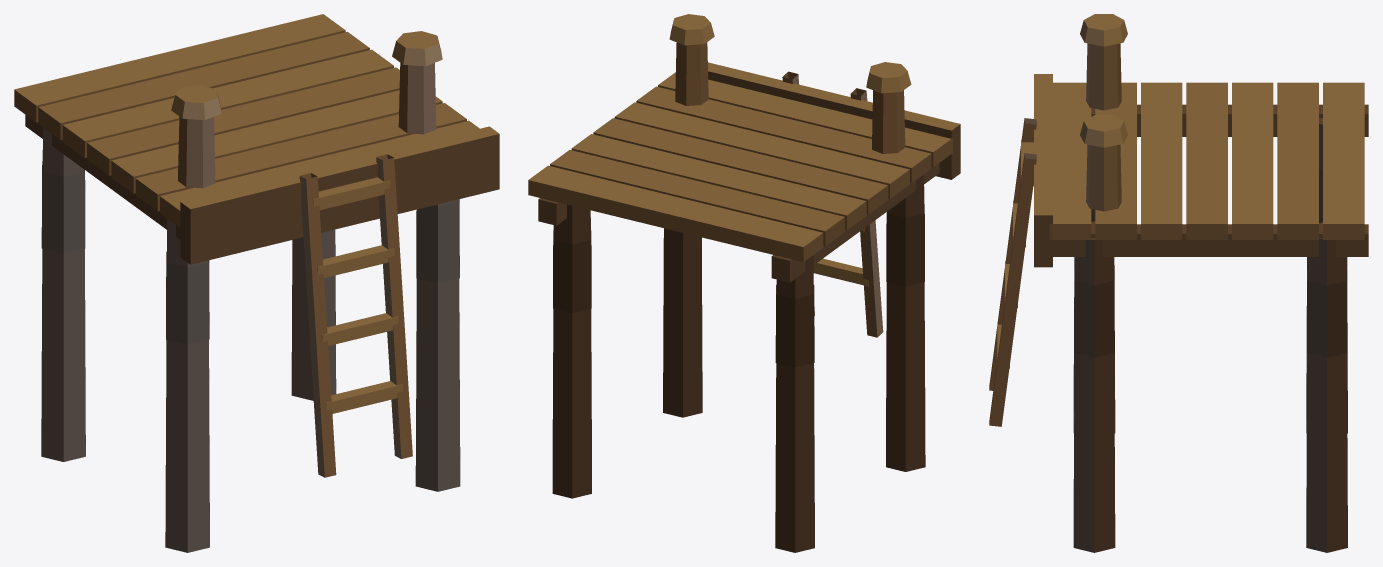
Rendered from pier_end.glb.
The picture shows the model from 3 angles, left to right: view 1: azimuth 30°, elevation 25°; view 2: azimuth 150°, elevation 25°; view 3: azimuth 270°, elevation 25°; orthographic projection. The views are drawn at different scales.
Parts seen in each view (by area): view 1: pier_end; view 2: pier_end; view 3: pier_end.
Part boxes in pixels (<box>): pier_end: <box>14,14,499,552</box>; pier_end: <box>528,14,960,552</box>; pier_end: <box>989,14,1368,552</box>.
Size of the model in its own units: 2.1 by 2.86 by 2.38.
